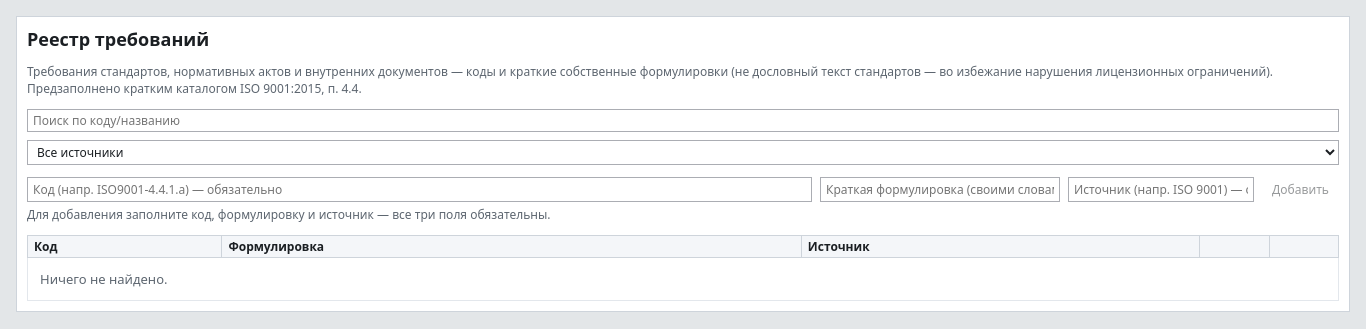
реестр требований: добавление › кнопка включается, когда заполнены код, формулировка и источник
In the field with placeholder "Код (напр. ISO9001-4.4.1.a) — обязательно": {"x": 420, "y": 190} [27,177,812,202], type "ISO9001-4.4.1.a"
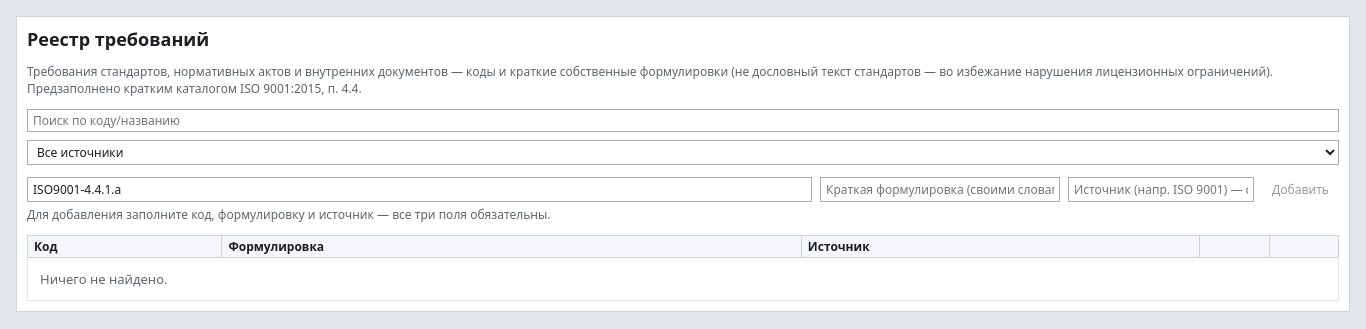
In the field with placeholder "Краткая формулировка (своими словами) — обязательно": {"x": 940, "y": 190} [820,177,1060,202], type "Процессы и их взаимодействие"
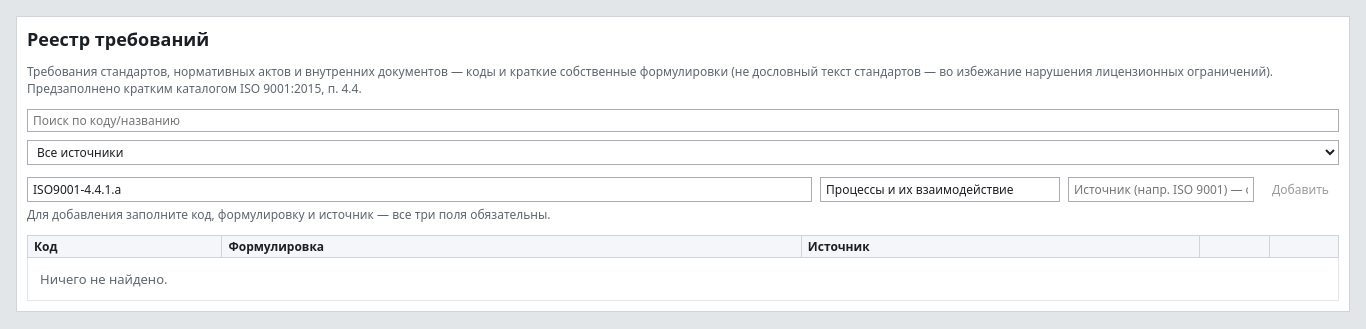
Expected: the button "Добавить" is disabled, [1262,177,1339,202]
In the field with placeholder "Источник (напр. ISO 9001) — обязательно": {"x": 1161, "y": 190} [1068,177,1254,202], type "ISO 9001"
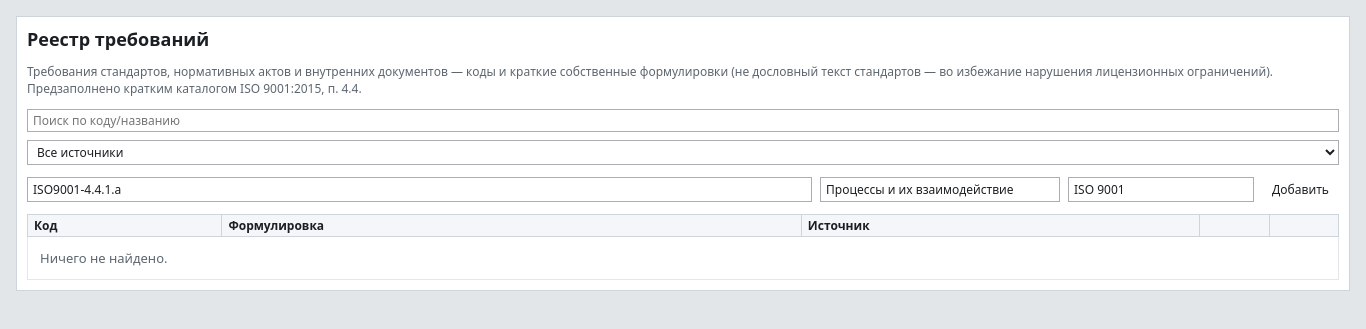
Expected: the button "Добавить" is enabled, [1262,177,1339,202]
Expected: the text "все три поля обязательны" is gone
